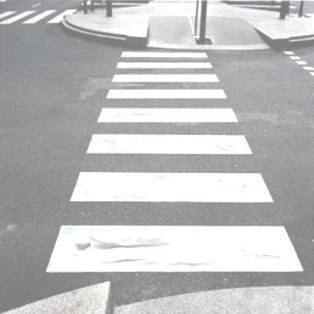Paso de Cebra: (68, 130, 276, 210), (103, 72, 231, 102)
